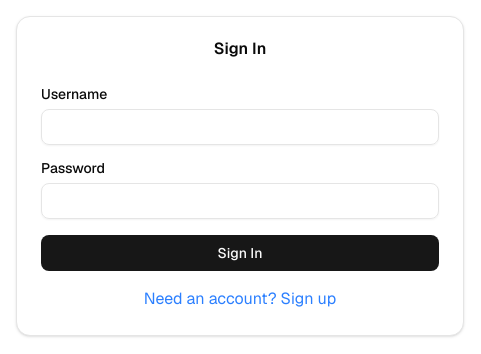
Test case: AuthForm › shows loading state during form submission
This screenshot has width=481, height=354.
Type "testuser" into the field labelled "Username" at x=240, y=127, box 41,109 -> 439,145
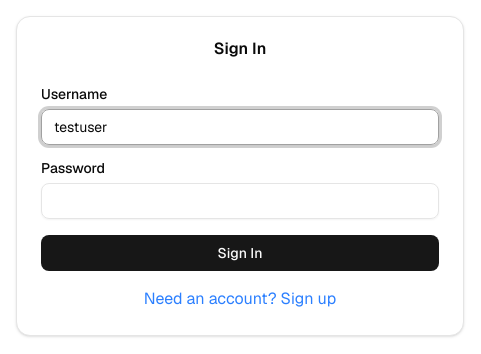
Type "password123" into the password field labelled "Password" at x=240, y=201, box 41,183 -> 439,219
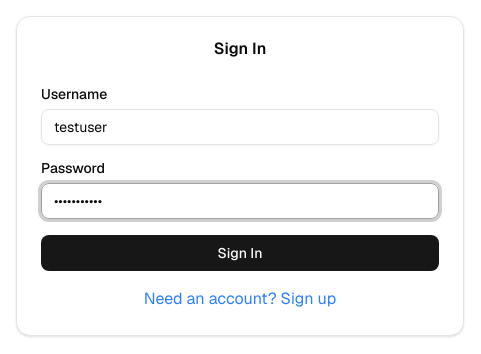
Click the button "Sign In" at x=240, y=253, box 41,235 -> 439,271
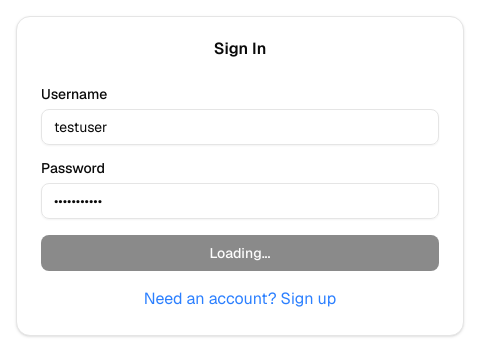
Result: the button "Loading..." is disabled at 41,235 -> 439,271
